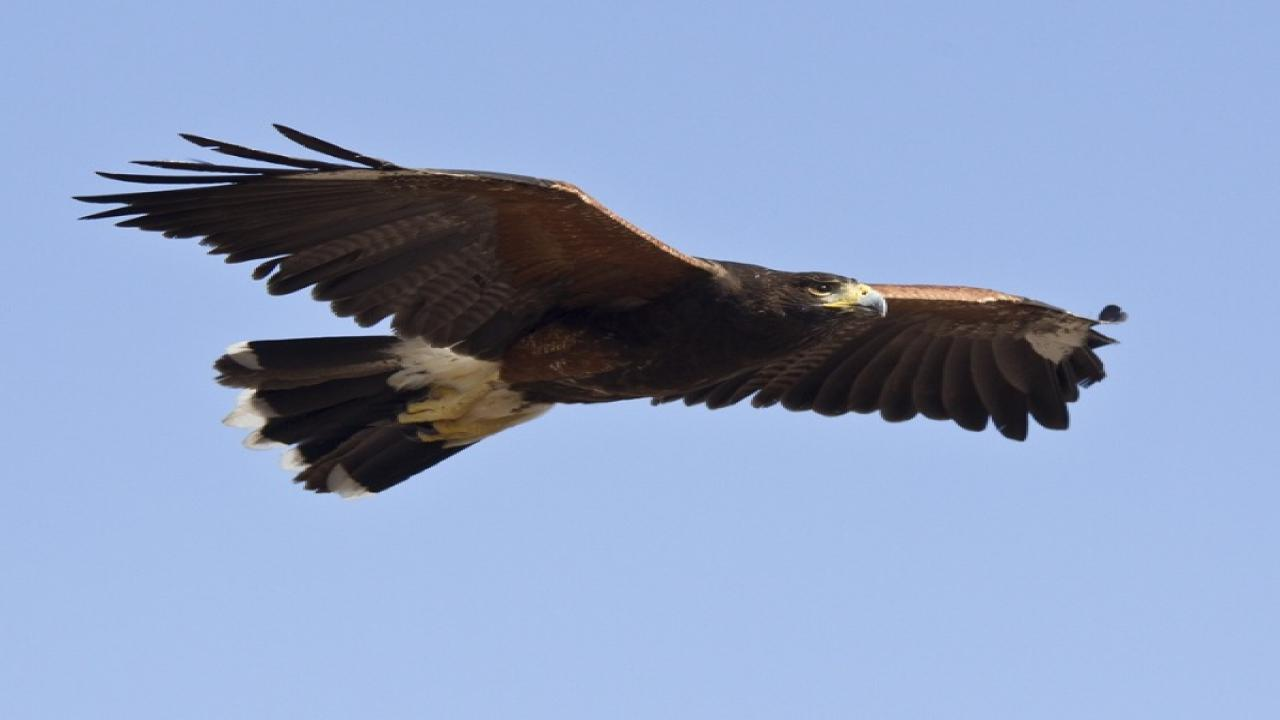Bird: (65, 110, 1142, 503)
